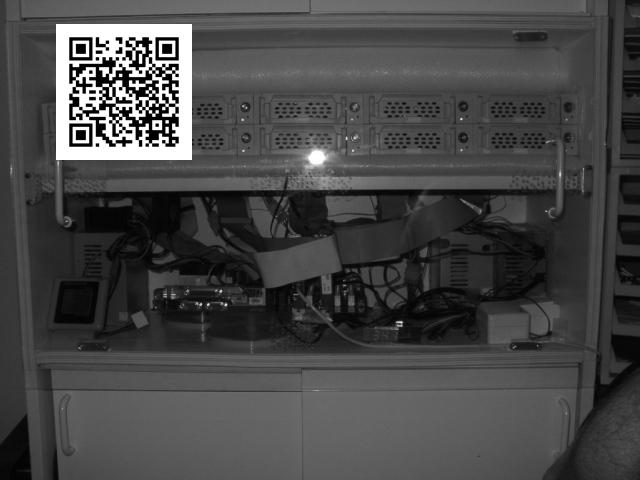qr_code: (57, 24, 190, 158)
